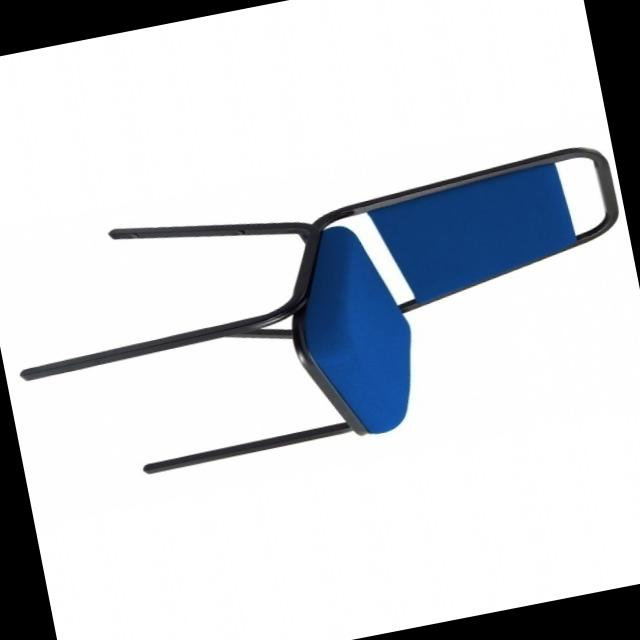Chair: (0, 129, 640, 503)
